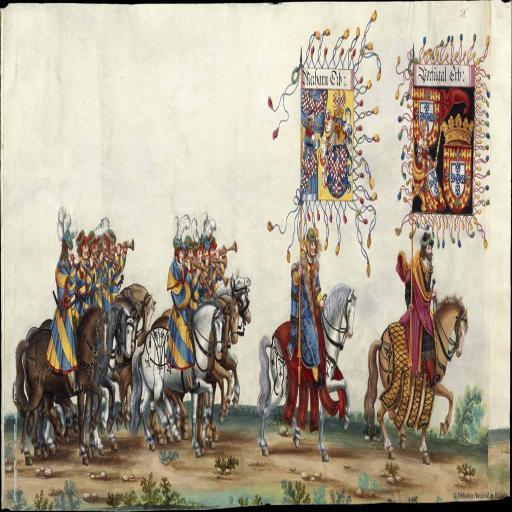horse: (12, 270, 252, 468), (363, 290, 468, 462), (258, 283, 357, 463)
